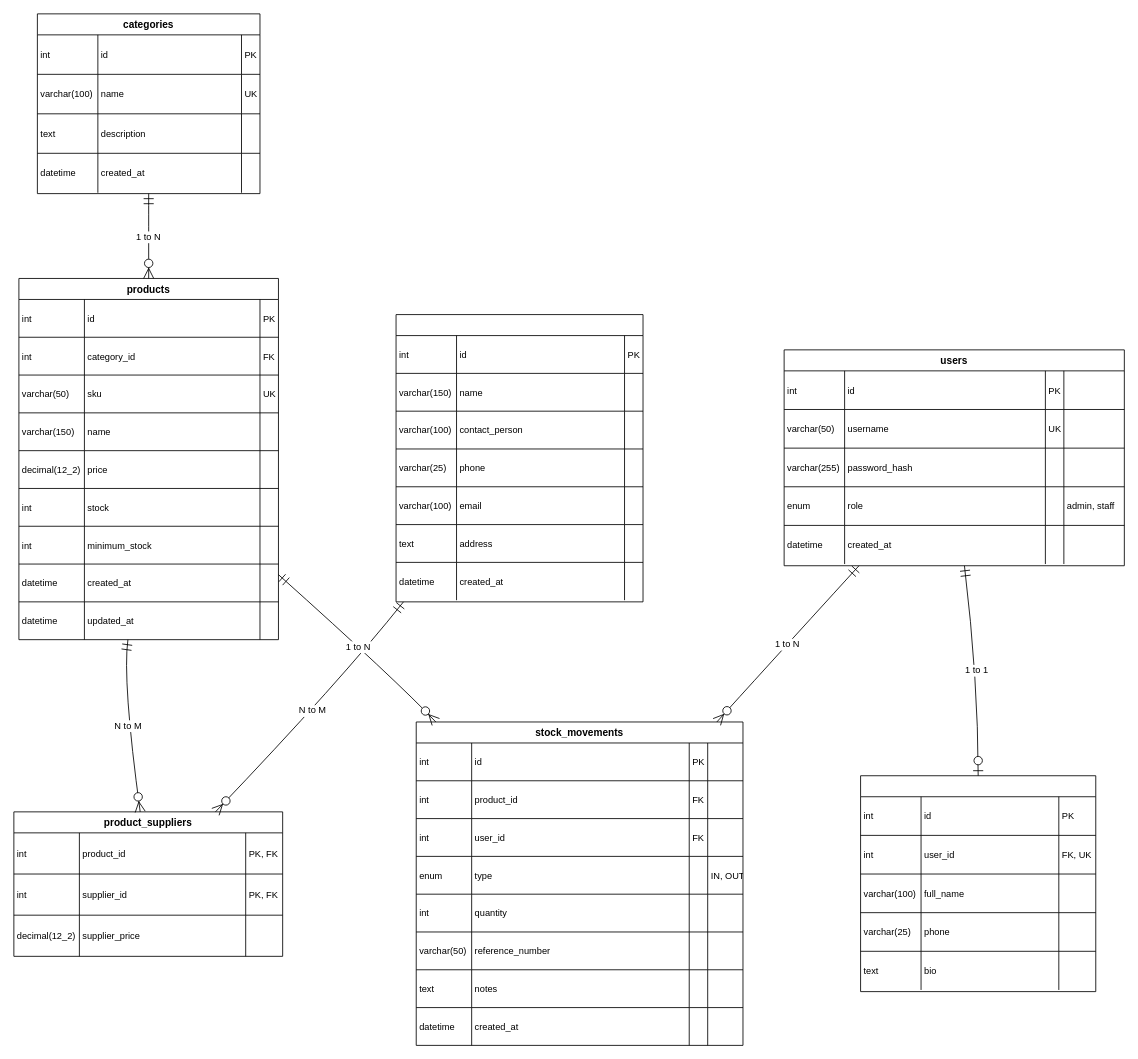
Image size: 1138x1059. Some labels were removed from this diagram. The shapes that lost their labels are listed below. From the top down, each one's box as (x1, y1, x2, y2) in pixels, then its label:
(395, 314, 643, 602): suppliers
(860, 775, 1096, 992): user_profiles
